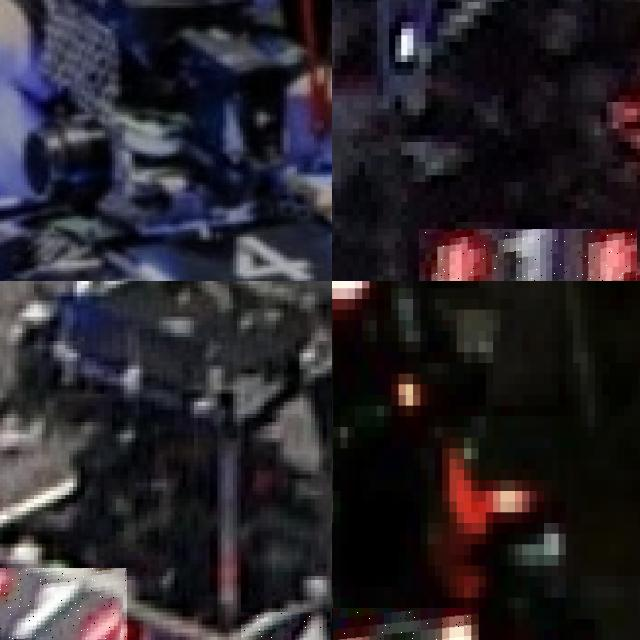R1: (419, 228, 636, 281), (0, 568, 127, 640)
Rs: (333, 608, 478, 640)
